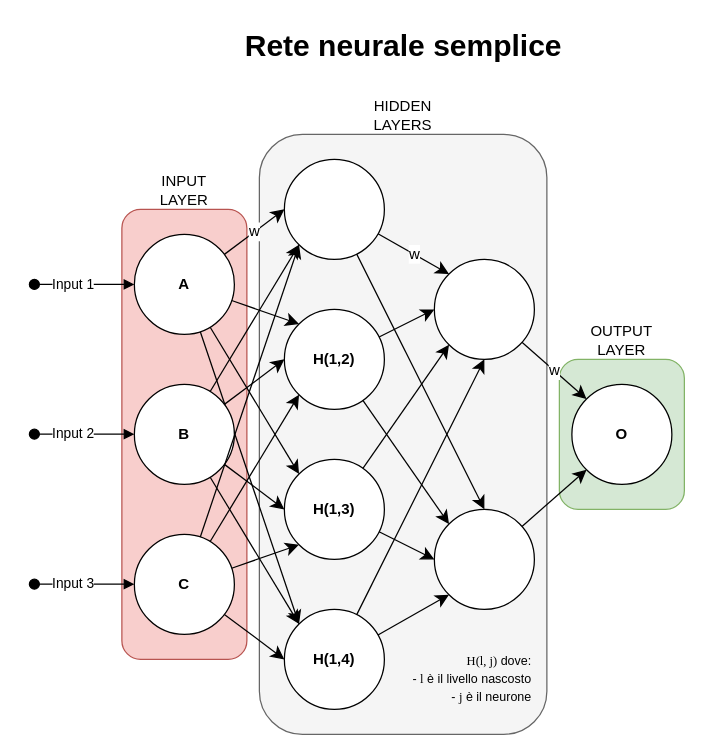
This 706x756 diagram has some shape labels left out. Here are the shapes that lost their labels. From the top down, the centre of each, then its label:
At point (333, 208): "H(1,1)".
At point (483, 308): "H(2,1)".
At point (483, 558): "H(2,2)".
